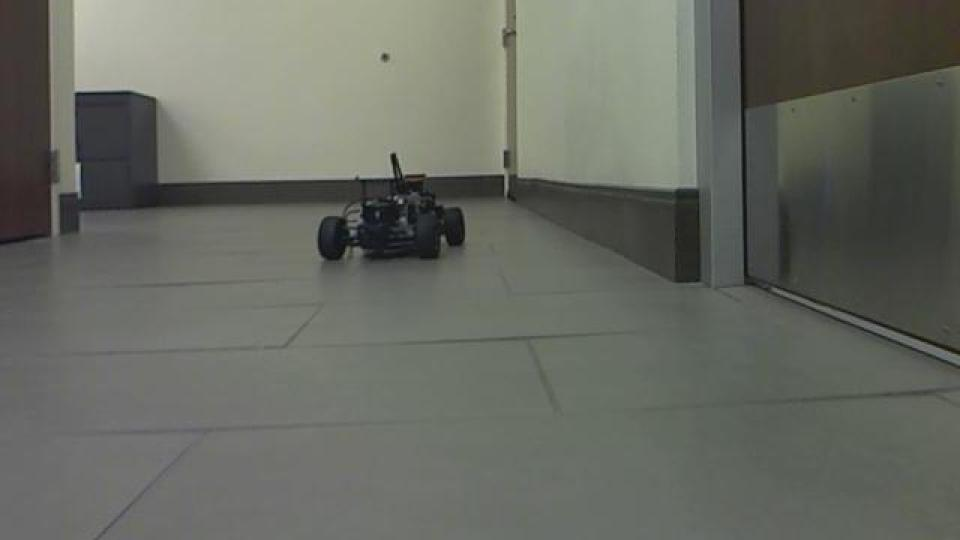car: (314, 150, 468, 264)
